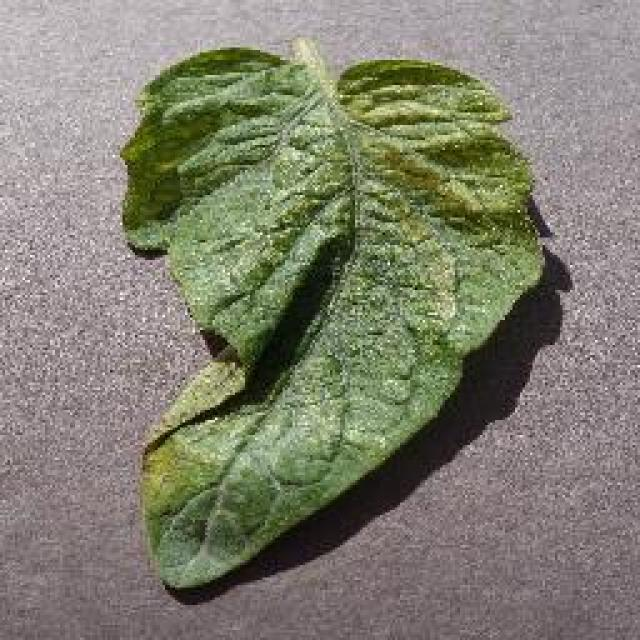Tomato___Spider_mites Two-spotted_spider_mite: (122, 40, 542, 588)
